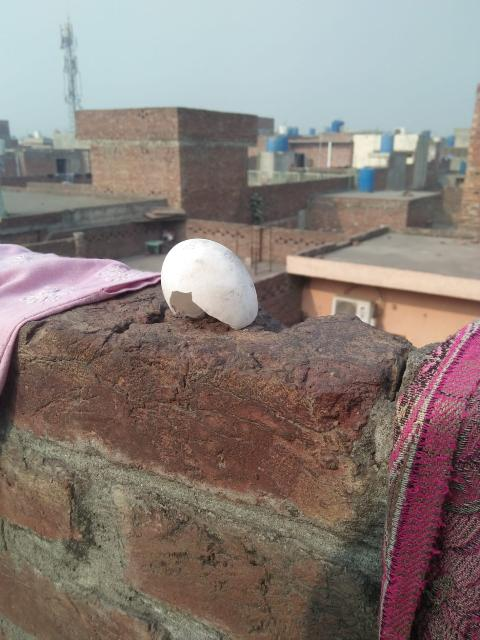Roto: (160, 237, 259, 330)
